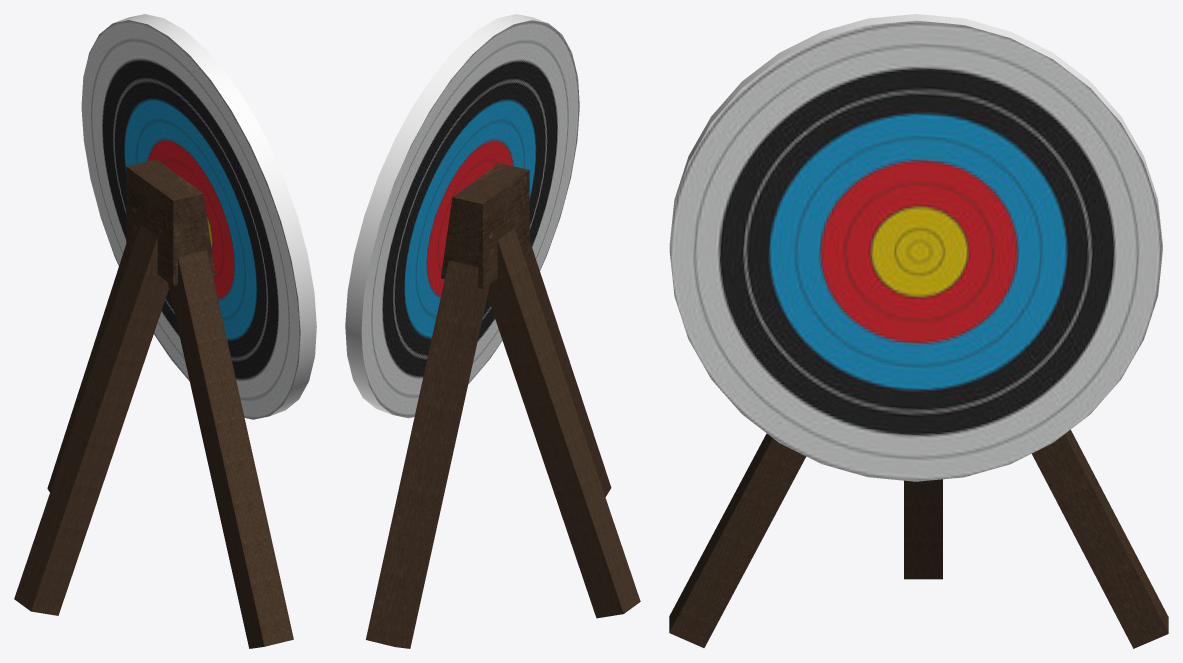
Rendered from target-stand.glb.
The picture shows the model from 3 angles, left to right: view 1: azimuth 30°, elevation 25°; view 2: azimuth 150°, elevation 25°; view 3: azimuth 270°, elevation 25°; orthographic projection. The views are drawn at different scales.
Visible parts, largest first — view 1: Cylinder_0, Cube.002_3, Cube.001_2, Cube.003_4, Cube_1; view 2: Cylinder_0, Cube.002_3, Cube_1, Cube.003_4, Cube.001_2; view 3: Cylinder_0, Cube_1, Cube.001_2, Cube.002_3.
Part boxes in pixels (x1,y1,x2,y2): Cylinder_0: (81,14,316,419); Cube.002_3: (14,224,168,615); Cube.001_2: (167,250,293,648); Cube.003_4: (126,159,215,285); Cube_1: (47,244,130,492); Cylinder_0: (345,14,579,418); Cube.002_3: (487,228,640,618); Cube_1: (365,260,489,648); Cube.003_4: (441,163,529,288); Cube.001_2: (524,241,611,497); Cylinder_0: (669,14,1162,481); Cube_1: (1032,429,1168,648); Cube.001_2: (669,433,806,647); Cube.002_3: (904,479,942,579).
Size of the model in its own units: 1.1 by 2.83 by 2.03.
Materials: 2 (2 with a texture image).
